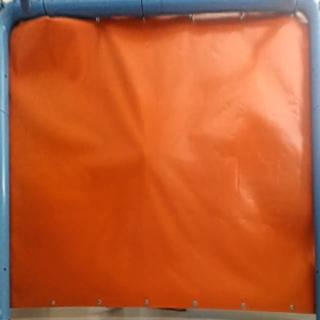Hit-hRxx: (139, 148, 159, 162)
